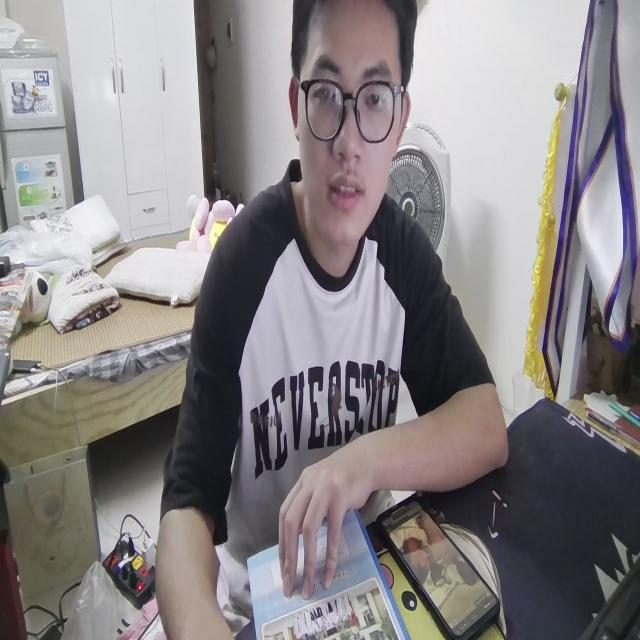book: (244, 499, 410, 640)
phone: (378, 489, 499, 640)
student: (148, 0, 505, 640)
